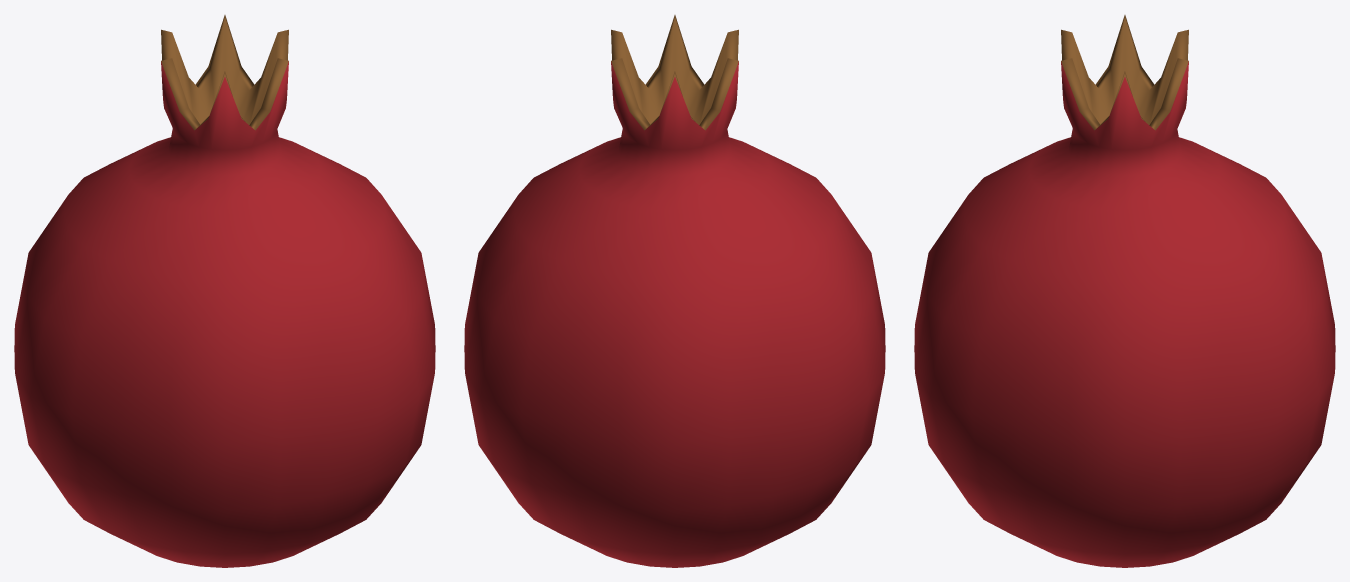
File: NEW_RECOVERY_094_LOD2.glb
3 views of the same model, side by side, from view 1: azimuth 30°, elevation 25°; view 2: azimuth 150°, elevation 25°; view 3: azimuth 270°, elevation 25° (orthographic).
Parts seen in each view (by area): view 1: Pomegranate; view 2: Pomegranate; view 3: Pomegranate.
Boxes of the visible parts, x1=… form: Pomegranate: x1=14, y1=15, x2=435, y2=567; Pomegranate: x1=464, y1=15, x2=885, y2=567; Pomegranate: x1=914, y1=15, x2=1335, y2=567.
Size of the model in its own units: 0.1032 by 0.126 by 0.0968.
